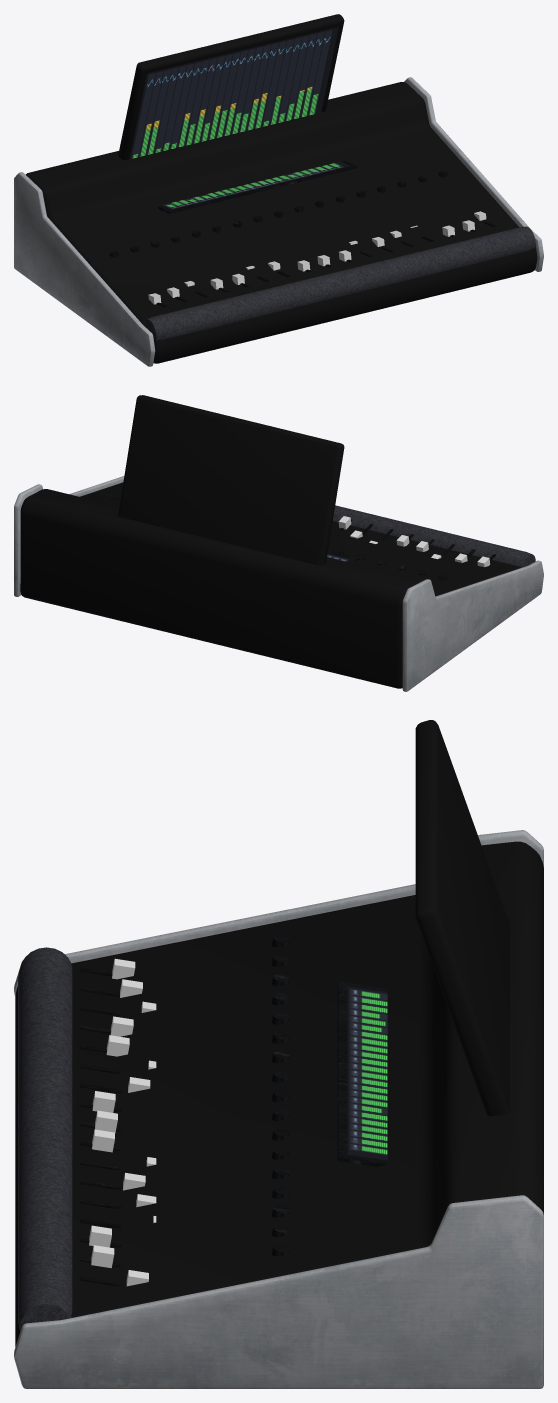
The model's file is audio_console_ex33.gltf.
The picture shows the model from 3 angles, top to bottom: view 1: azimuth 30°, elevation 25°; view 2: azimuth 150°, elevation 25°; view 3: azimuth 270°, elevation 25°; orthographic projection. The views are drawn at different scales.
Parts seen in each view (by area): view 1: audio_console_ex33; view 2: audio_console_ex33; view 3: audio_console_ex33.
Boxes of the visible parts, x1,y1,x2,y2 form: audio_console_ex33: [14, 14, 543, 366]; audio_console_ex33: [14, 395, 543, 691]; audio_console_ex33: [14, 720, 543, 1388].
Size of the model in its own units: 0.924 by 0.4564 by 0.5594.
Materials: 7 (5 with a texture image).
